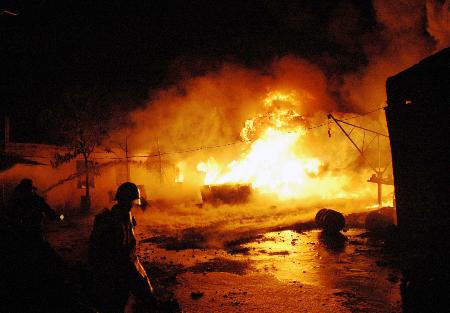fire: (195, 89, 355, 190)
